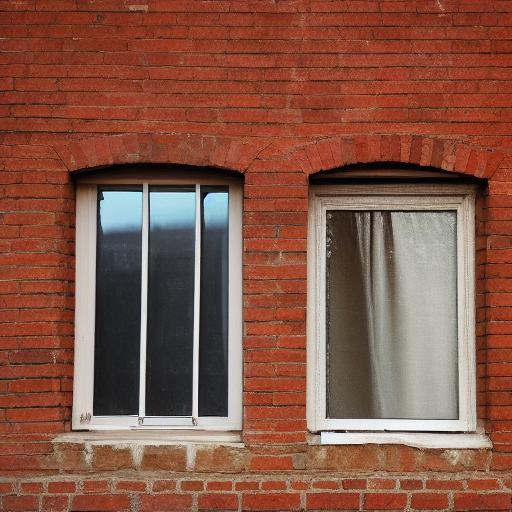Window: (53, 133, 492, 474)
